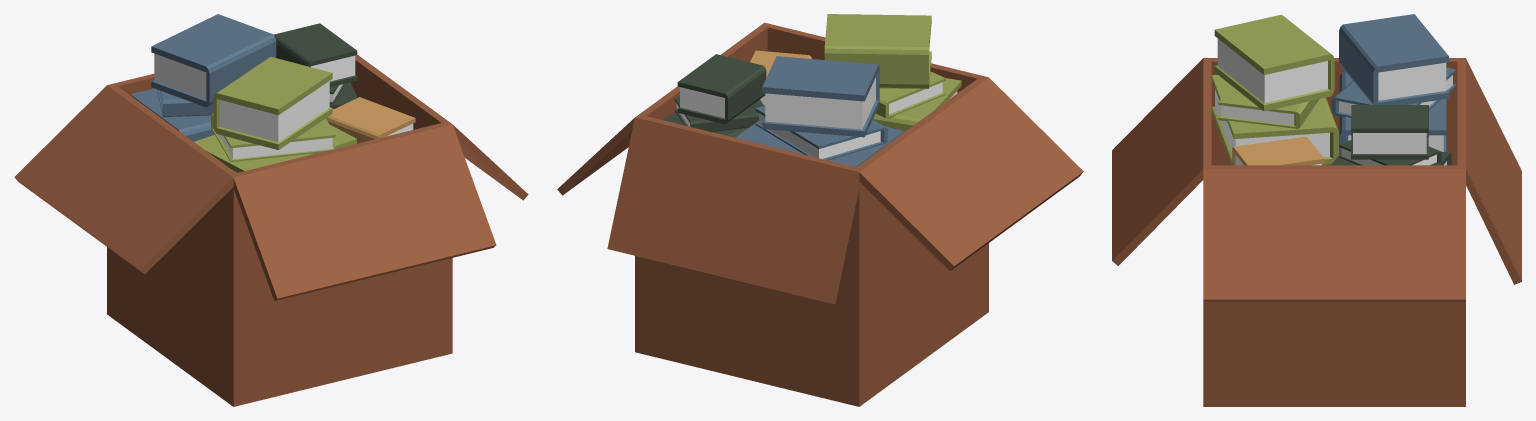
3 views of the same model, side by side, from view 1: azimuth 30°, elevation 25°; view 2: azimuth 150°, elevation 25°; view 3: azimuth 270°, elevation 25° (orthographic). The views are drawn at different scales.
Parts seen in each view (by area): view 1: pCube6, buccpail.004, buccpail.005, buccpail.006, buccpail.007; view 2: pCube6, buccpail.005, buccpail.004, buccpail.006, buccpail.007; view 3: pCube6, buccpail.004, buccpail.005, buccpail.006, buccpail.007.
Part boxes in pixels (bbox=[...]): pCube6: bbox=[14, 55, 528, 406]; buccpail.004: bbox=[194, 56, 356, 172]; buccpail.005: bbox=[130, 14, 276, 141]; buccpail.006: bbox=[274, 23, 357, 109]; buccpail.007: bbox=[326, 97, 415, 143]; pCube6: bbox=[557, 22, 1083, 406]; buccpail.005: bbox=[735, 56, 904, 167]; buccpail.004: bbox=[824, 14, 961, 131]; buccpail.006: bbox=[662, 54, 766, 137]; buccpail.007: bbox=[750, 50, 811, 105]; pCube6: bbox=[1112, 58, 1521, 406]; buccpail.004: bbox=[1212, 14, 1338, 164]; buccpail.005: bbox=[1331, 14, 1455, 153]; buccpail.006: bbox=[1331, 105, 1451, 165]; buccpail.007: bbox=[1232, 136, 1324, 165].
Bounding box in the file's own units: 275 × 191 × 243.
